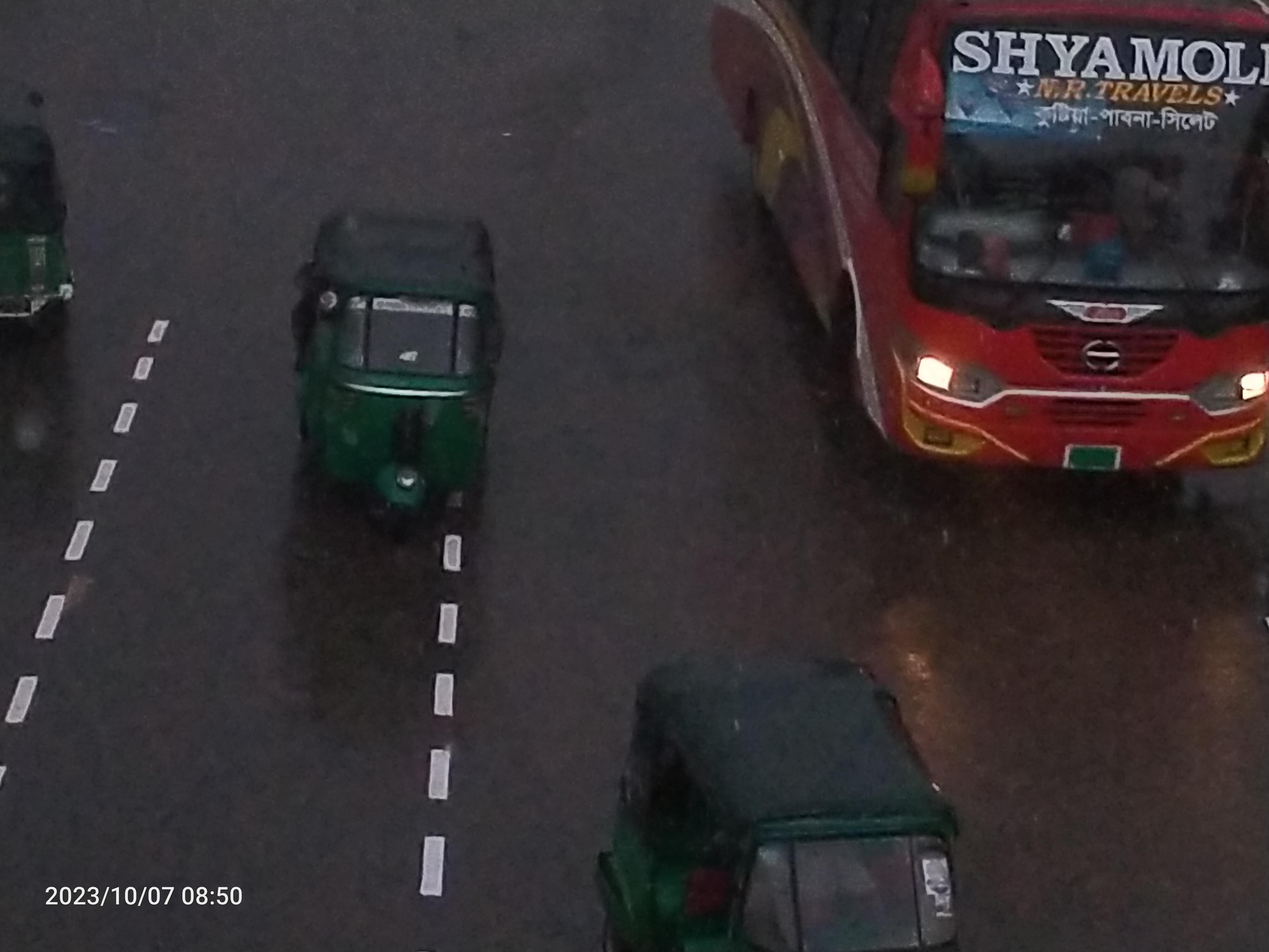Bus: (625, 0, 1269, 532)
